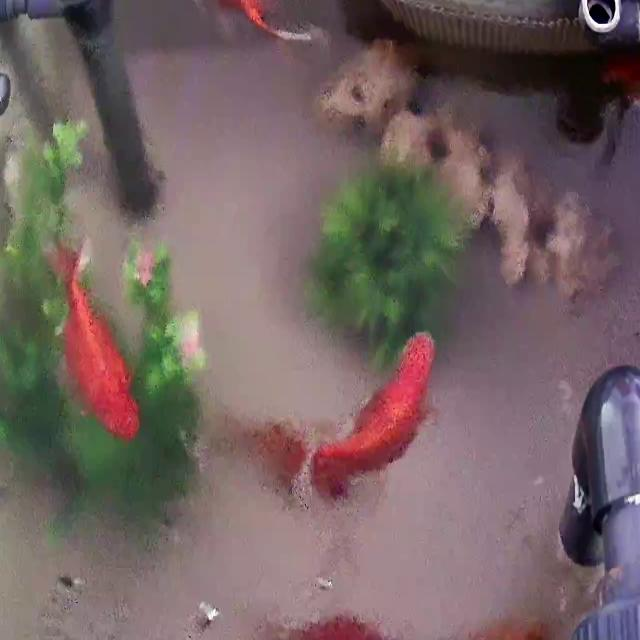fish: (47, 240, 142, 442), (316, 328, 426, 497), (188, 0, 318, 47), (241, 419, 315, 500), (602, 54, 640, 169), (265, 614, 383, 640), (440, 617, 548, 640)
